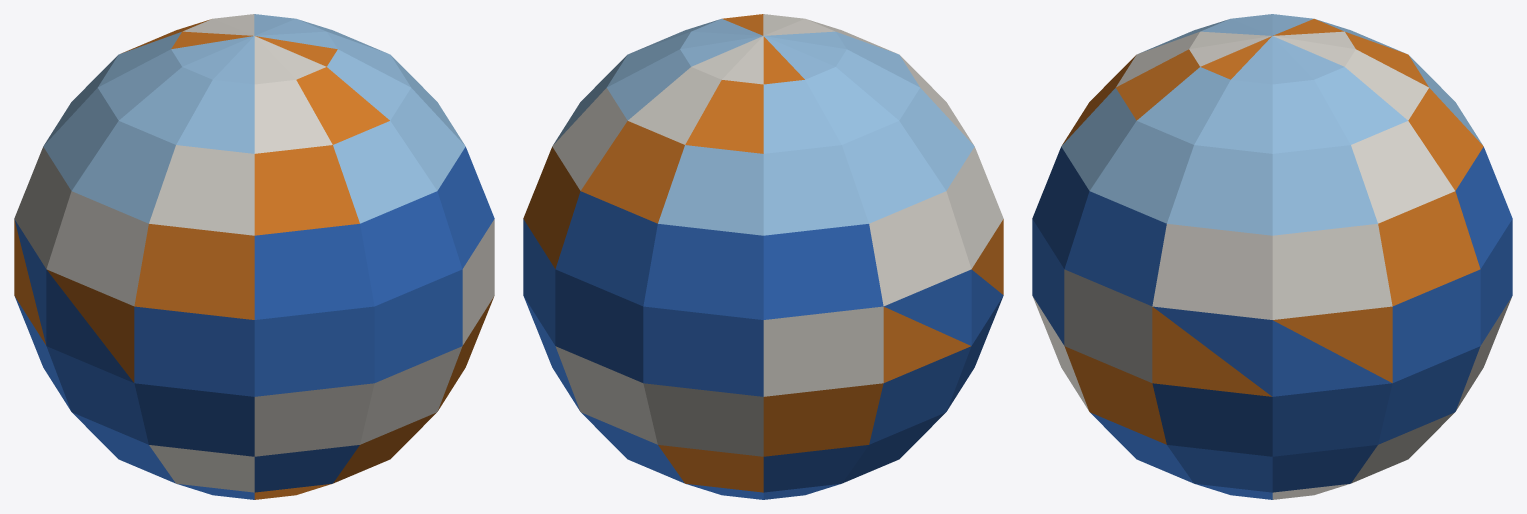
File: curios-marble.glb
The picture shows the model from 3 angles, left to right: view 1: azimuth 30°, elevation 25°; view 2: azimuth 150°, elevation 25°; view 3: azimuth 270°, elevation 25°; orthographic projection.
Bounding box in the file's own units: 1.97 × 2 × 1.97.
